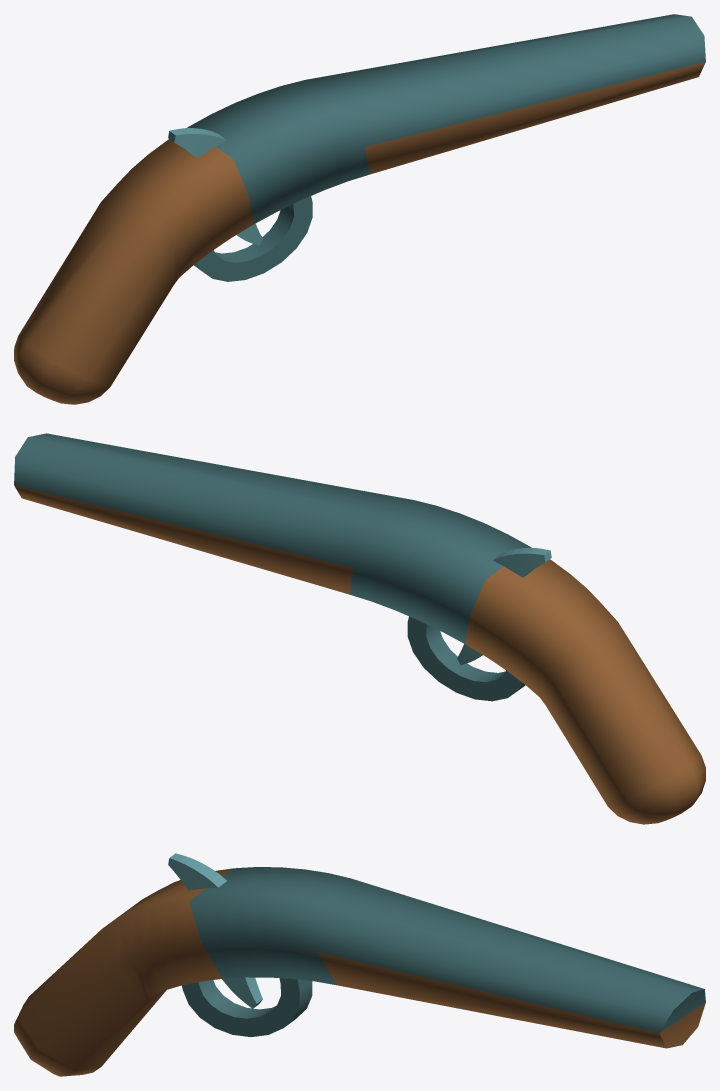
Rendered from Short Shortgun.fbx.
The picture shows the model from 3 angles, top to bottom: view 1: azimuth 30°, elevation 25°; view 2: azimuth 150°, elevation 25°; view 3: azimuth 330°, elevation 25°; orthographic projection.
Visible parts, largest first — view 1: Short shortgun; view 2: Short shortgun; view 3: Short shortgun.
Part boxes in pixels (x1,y1,x2,y2): Short shortgun: (14,14,705,404); Short shortgun: (14,433,705,824); Short shortgun: (14,853,705,1076).
Bounding box in the file's own units: 1 × 0.3451 × 0.129.
